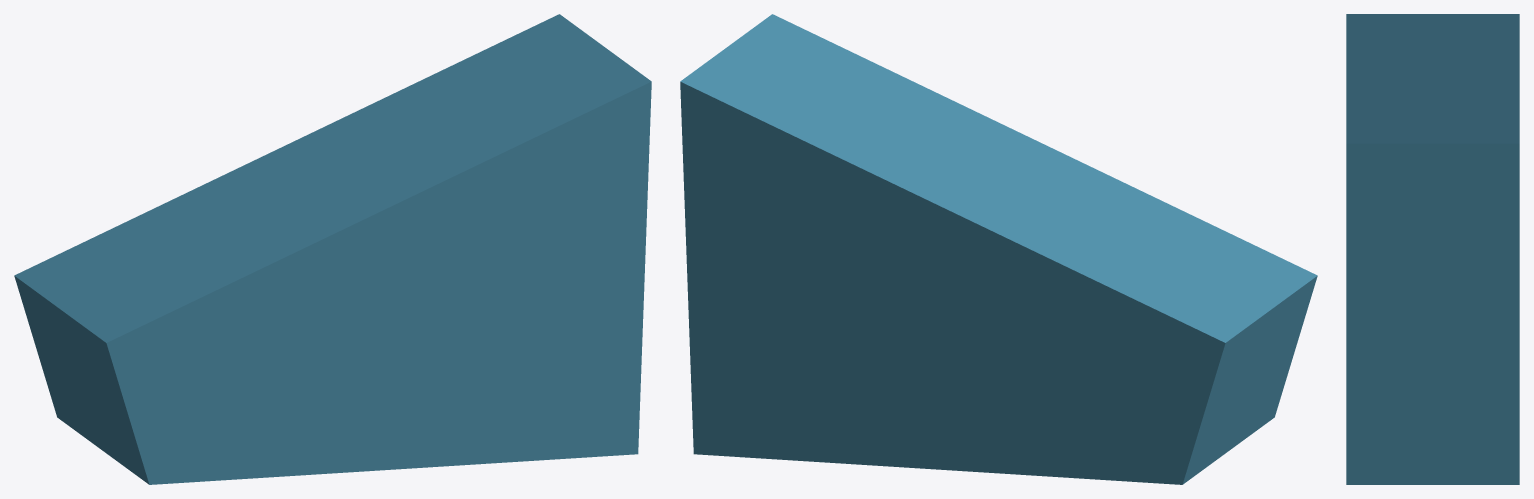
The model's file is NexusA_Trigger_32.fbx.
3 views of the same model, side by side, from view 1: azimuth 30°, elevation 25°; view 2: azimuth 150°, elevation 25°; view 3: azimuth 270°, elevation 25° (orthographic). The views are drawn at different scales.
Parts seen in each view (by area): view 1: pCube27; view 2: pCube27; view 3: pCube27.
Boxes of the visible parts, x1=… form: pCube27: x1=14, y1=14, x2=651, y2=484; pCube27: x1=680, y1=14, x2=1317, y2=484; pCube27: x1=1346, y1=14, x2=1519, y2=484.
Size of the model in its own units: 35.81 by 23.18 by 10.49.
